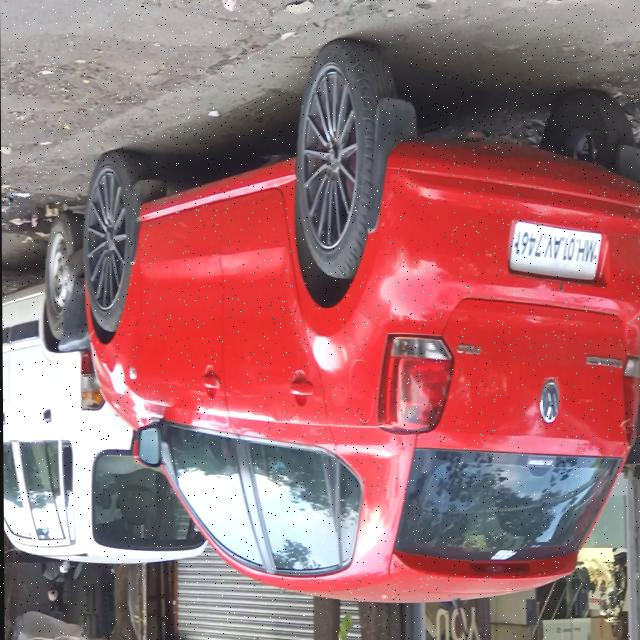plate: (507, 218, 604, 282)
